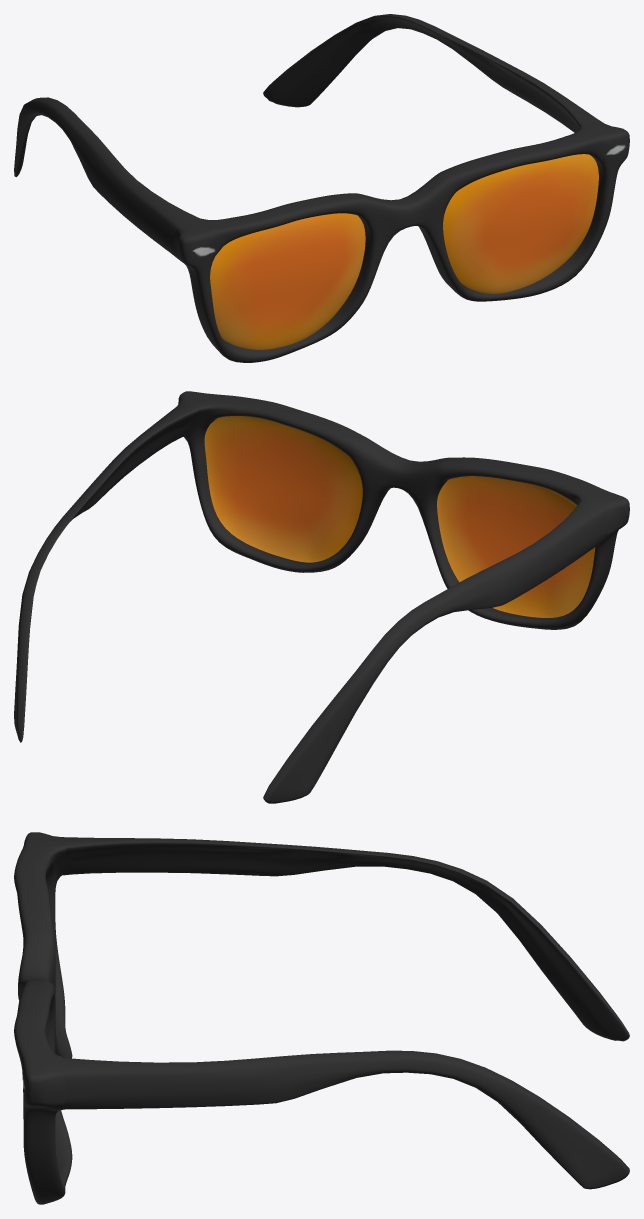
The model's file is sunglass.fbx.
3 renders of one model, top to bottom at view 1: azimuth 30°, elevation 25°; view 2: azimuth 150°, elevation 25°; view 3: azimuth 270°, elevation 25°, orthographic. The views are drawn at different scales.
Visible parts, largest first — view 1: sunglass_smooth1; view 2: sunglass_smooth1; view 3: sunglass_smooth1.
Boxes of the visible parts, x1=… form: sunglass_smooth1: x1=14, y1=14, x2=629, y2=362; sunglass_smooth1: x1=14, y1=391, x2=629, y2=803; sunglass_smooth1: x1=14, y1=832, x2=629, y2=1204.
Size of the model in its own units: 9.48 by 3.06 by 9.94.
Materials: 1 (1 with a texture image).
